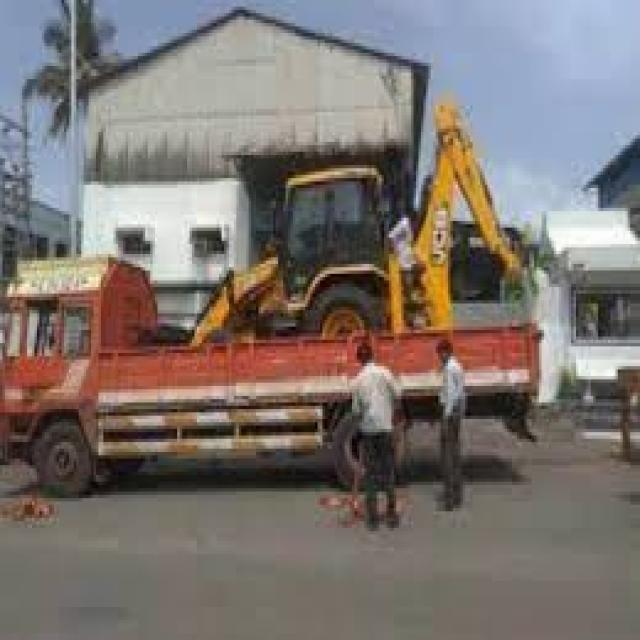uncovered: (2, 192, 534, 502)
